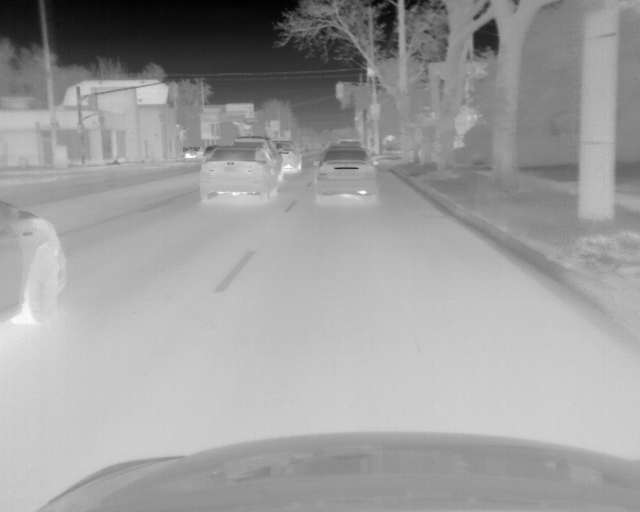car: (1, 198, 65, 327), (200, 145, 274, 203), (314, 146, 380, 204), (230, 137, 281, 183), (271, 140, 305, 171), (180, 147, 200, 158)
